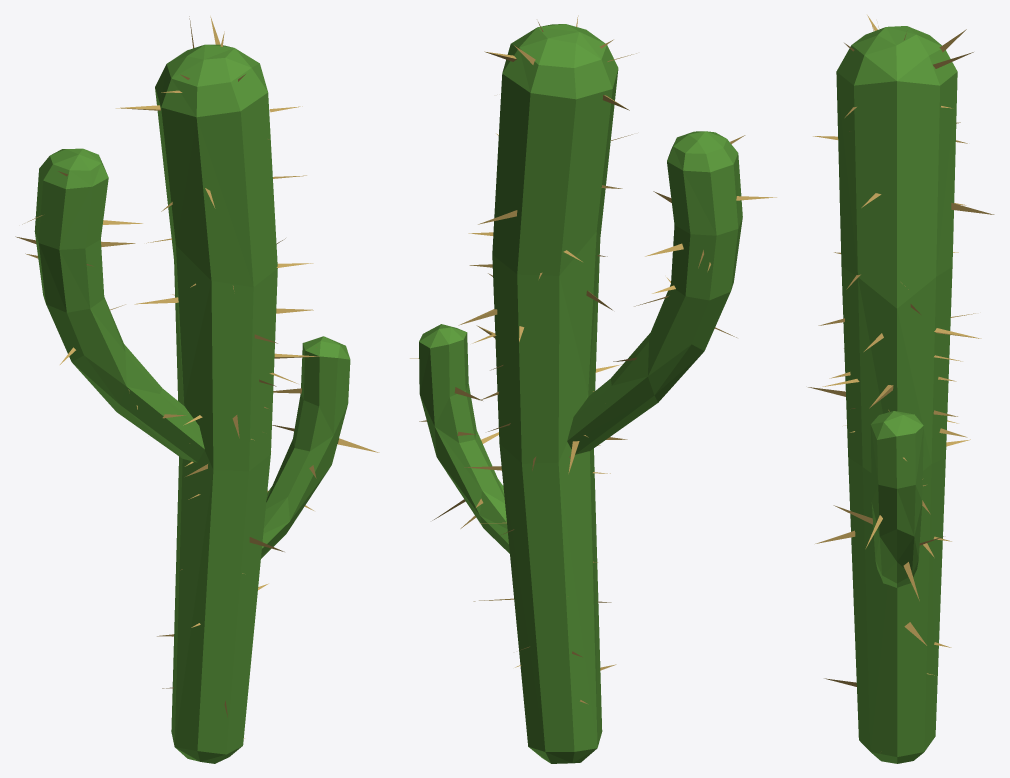
File: Cactus.fbx
The picture shows the model from 3 angles, left to right: view 1: azimuth 30°, elevation 25°; view 2: azimuth 150°, elevation 25°; view 3: azimuth 270°, elevation 25°; orthographic projection. The views are drawn at different scales.
Visible parts, largest first — view 1: Cylinder.005; view 2: Cylinder.005; view 3: Cylinder.005.
Part boxes in pixels (box(x1,y1,x2,y2)): Cylinder.005: box(15, 16, 379, 763); Cylinder.005: box(410, 15, 776, 763); Cylinder.005: box(808, 15, 994, 763).
Bounding box in the file's own units: 356 × 686 × 160.
